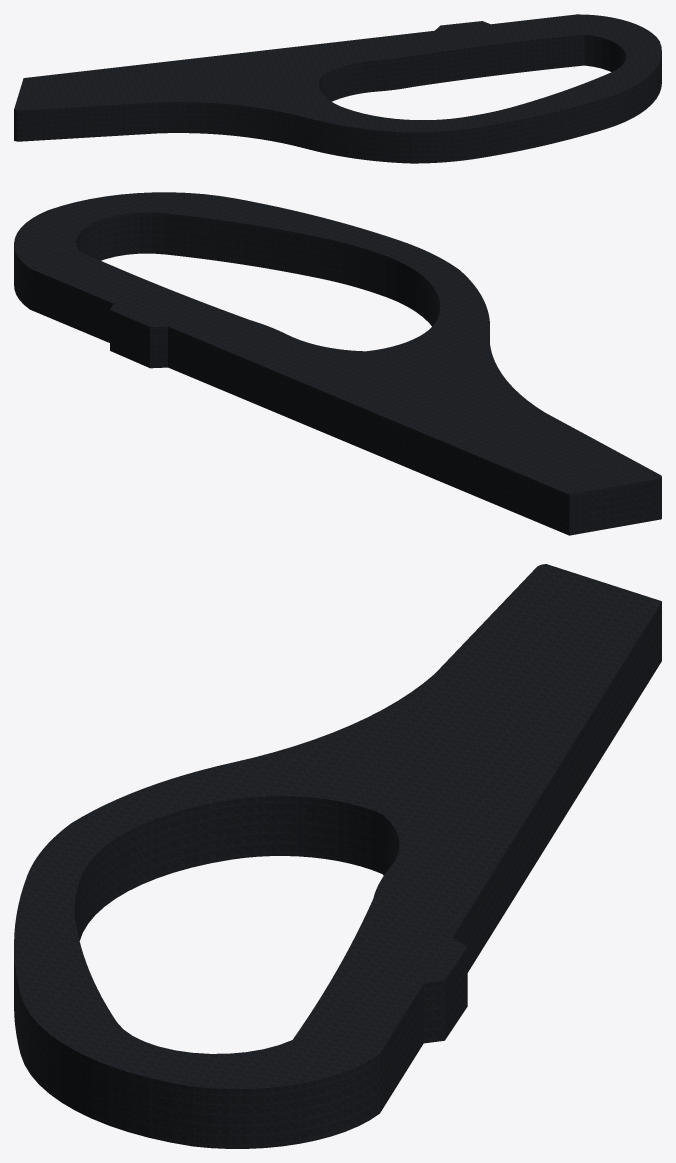
The model's file is original-3.obj.
3 renders of one model, top to bottom at view 1: azimuth 30°, elevation 25°; view 2: azimuth 150°, elevation 25°; view 3: azimuth 270°, elevation 25°, orthographic. The views are drawn at different scales.
Parts seen in each view (by area): view 1: Group3/mesh3/mesh3-geometry#mesh3-geometry; view 2: Group3/mesh3/mesh3-geometry#mesh3-geometry; view 3: Group3/mesh3/mesh3-geometry#mesh3-geometry.
Part boxes in pixels (x1,y1,x2,y2): Group3/mesh3/mesh3-geometry#mesh3-geometry: [14, 14, 661, 163]; Group3/mesh3/mesh3-geometry#mesh3-geometry: [14, 192, 661, 535]; Group3/mesh3/mesh3-geometry#mesh3-geometry: [14, 564, 661, 1148].
Size of the model in its own units: 0.7446 by 0.0396 by 0.3883.
